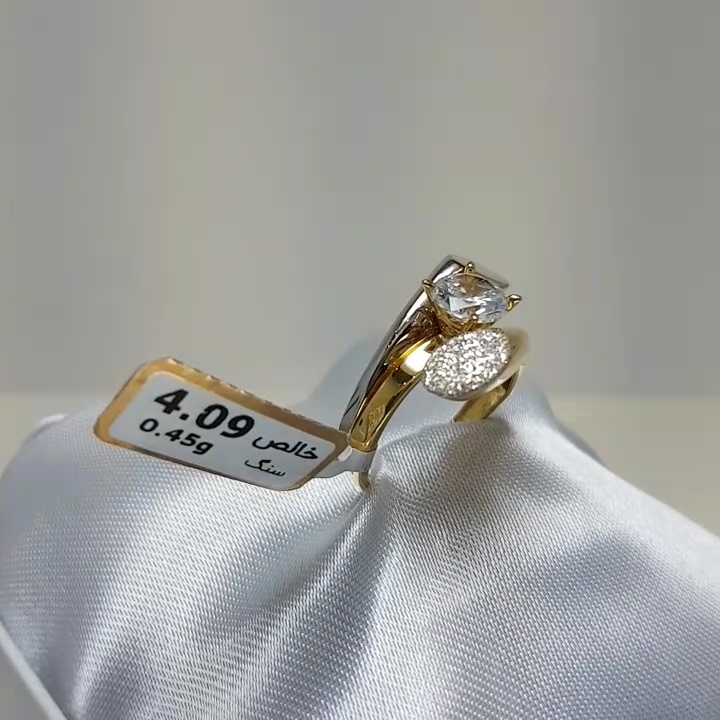Ring 7: (300, 246, 553, 511)
